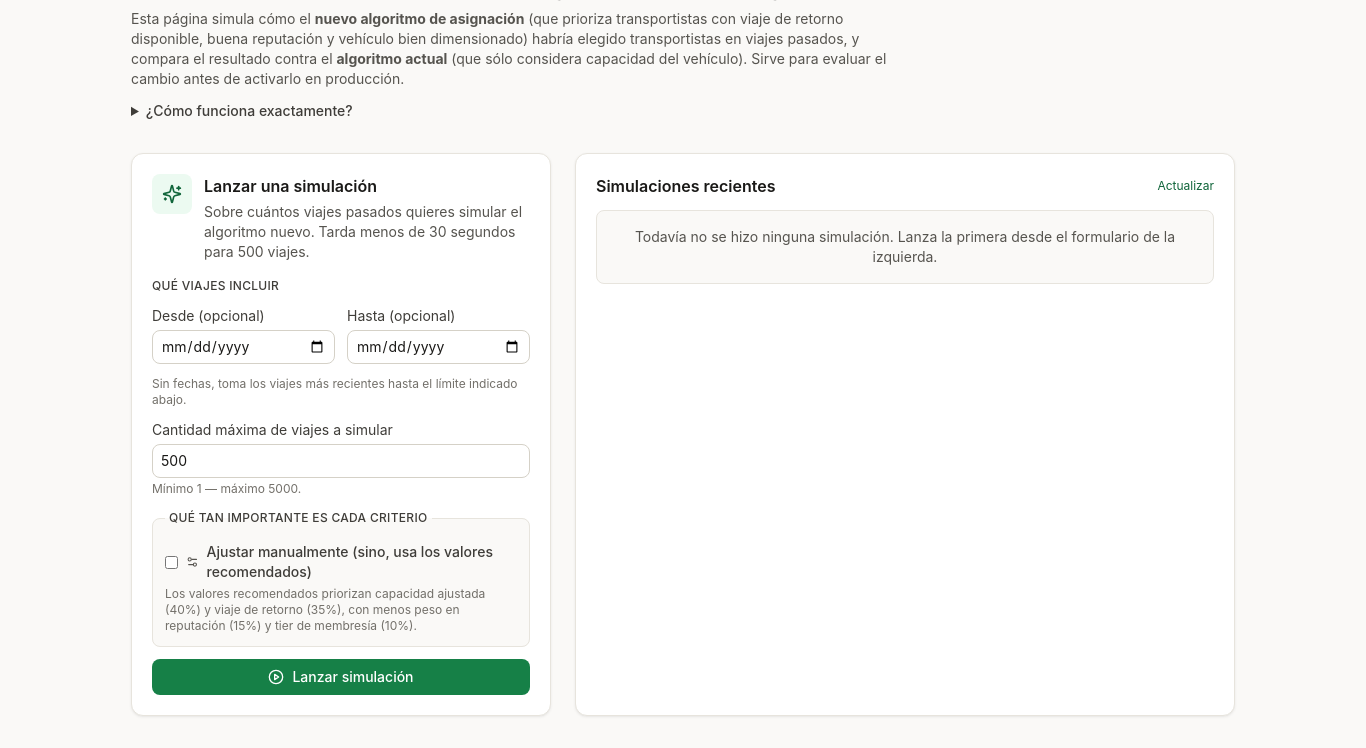
Test case: Formulario — lanzar simulación › servicio falla con 403 → muestra ayuda sobre allowlist
(page scrolled)
Click the button with test id "run-backtest-button": (341, 677) [152, 659, 530, 695]
(page scrolled)
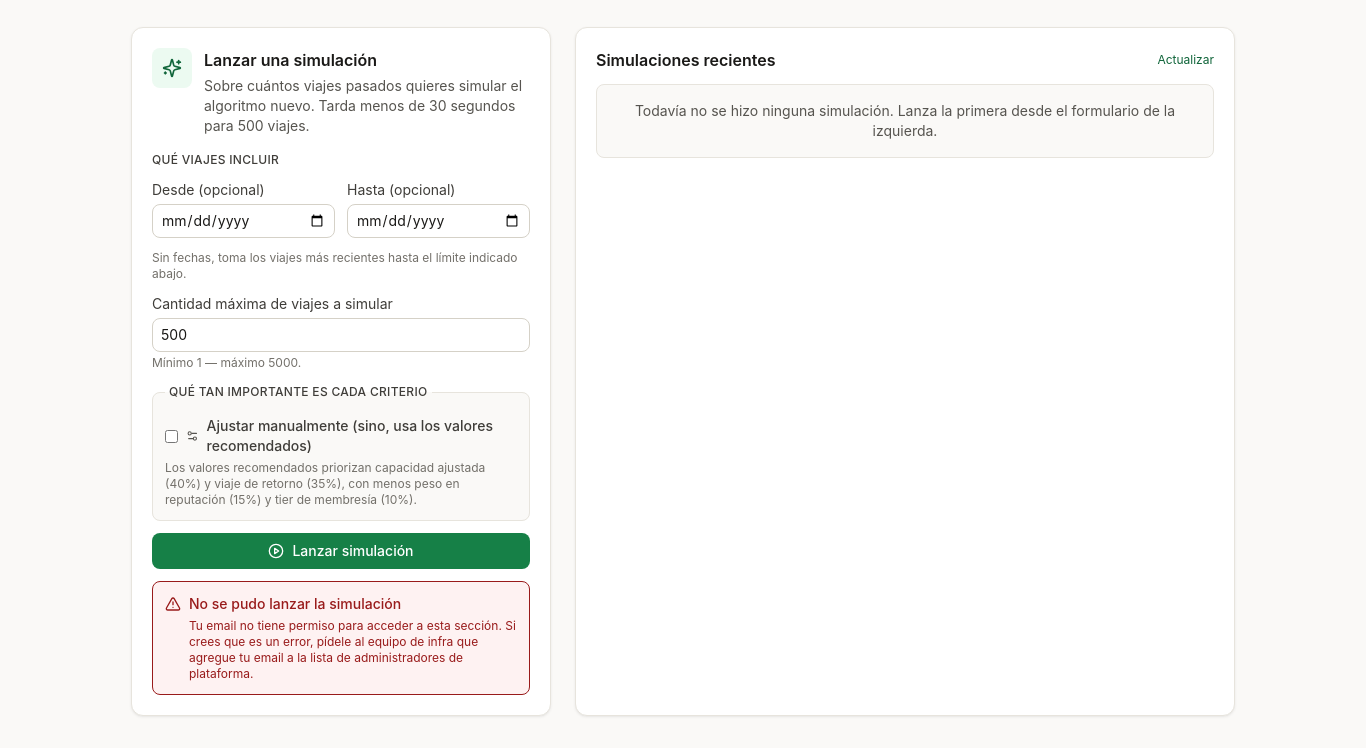
Expected: the text "Tu email no tiene permiso para acceder a esta sección" is shown, [189, 618, 516, 681]
